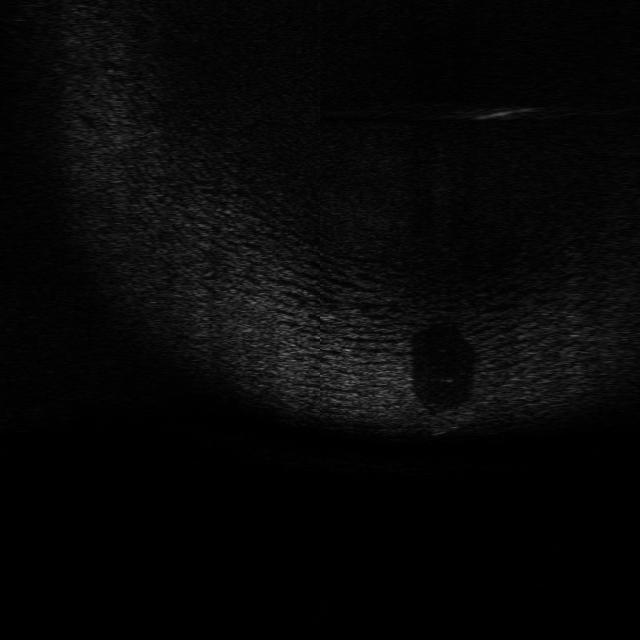cube: (409, 396, 477, 437)
